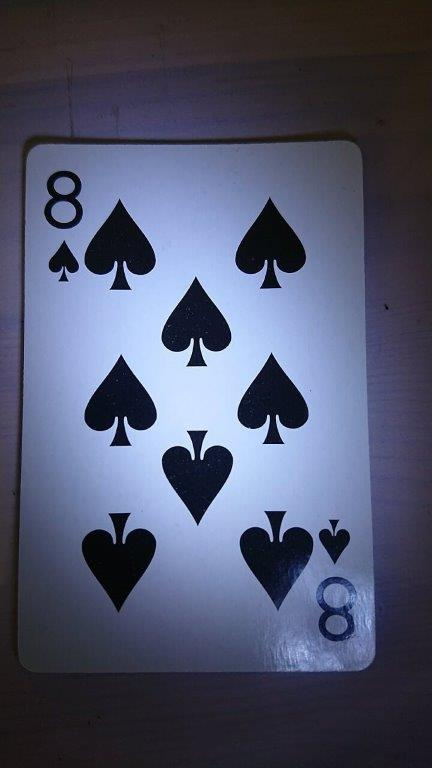8S: (13, 136, 378, 675)
